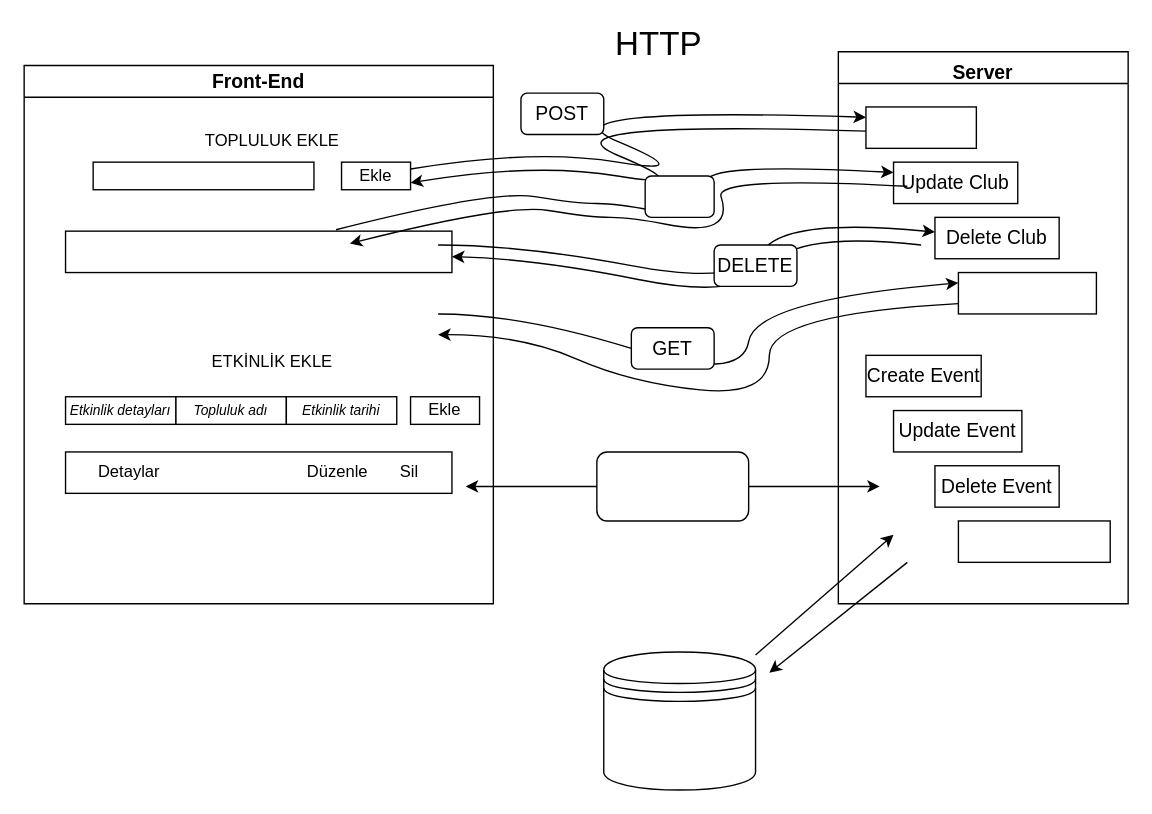
This 1152x814 diagram has some shape labels left out. Here are the shapes that lost their labels. From the top down, the centre of each, then its label:
(920,127): Create Club
(679,196): PUT
(258,251): Topluluk Adı Düzenle Sil
(1026,292): Read all Clubs
(672,486): HTTP requests similar to the above
(1033,541): Read all Events
(679,720): Database Postgresql
